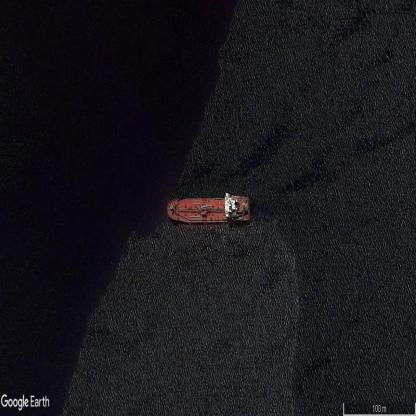ship: (167, 197, 250, 223)
